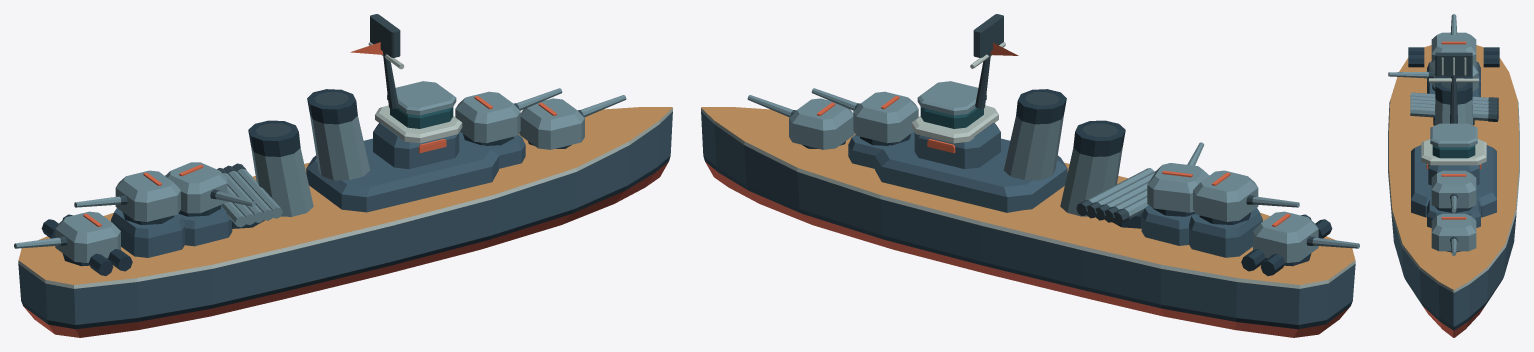
Rendered from uss_kidd_dd661.glb.
The picture shows the model from 3 angles, left to right: view 1: azimuth 30°, elevation 25°; view 2: azimuth 150°, elevation 25°; view 3: azimuth 270°, elevation 25°; orthographic projection. The views are drawn at different scales.
Parts seen in each view (by area): view 1: uss_kidd_dd661; view 2: uss_kidd_dd661; view 3: uss_kidd_dd661.
Part boxes in pixels (box(x1,y1,x2,y2)): uss_kidd_dd661: box(14, 14, 672, 337); uss_kidd_dd661: box(701, 14, 1359, 337); uss_kidd_dd661: box(1388, 14, 1519, 337).
Size of the model in its own units: 1.88 by 0.628 by 0.408.
